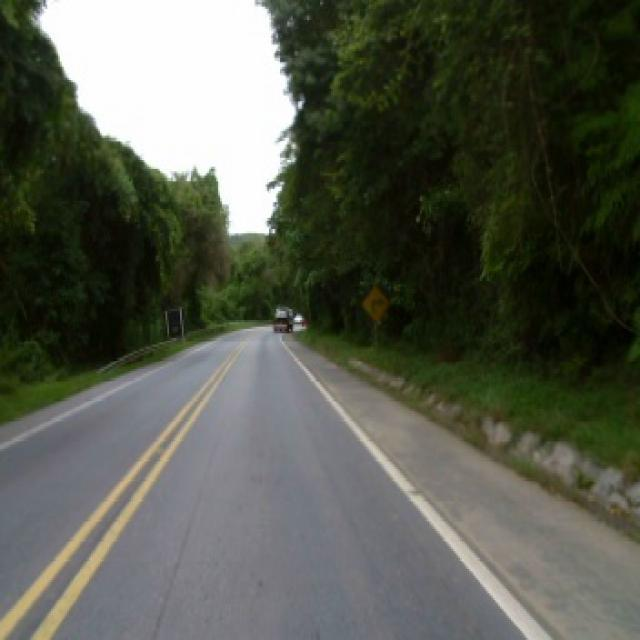Poth-hole: (406, 486, 418, 494)
